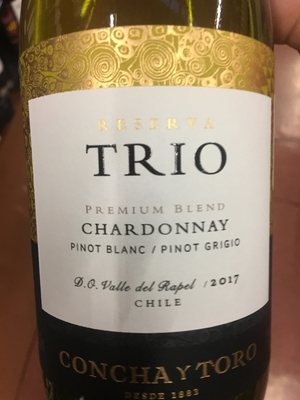trio chardonnay: (12, 14, 279, 400)
